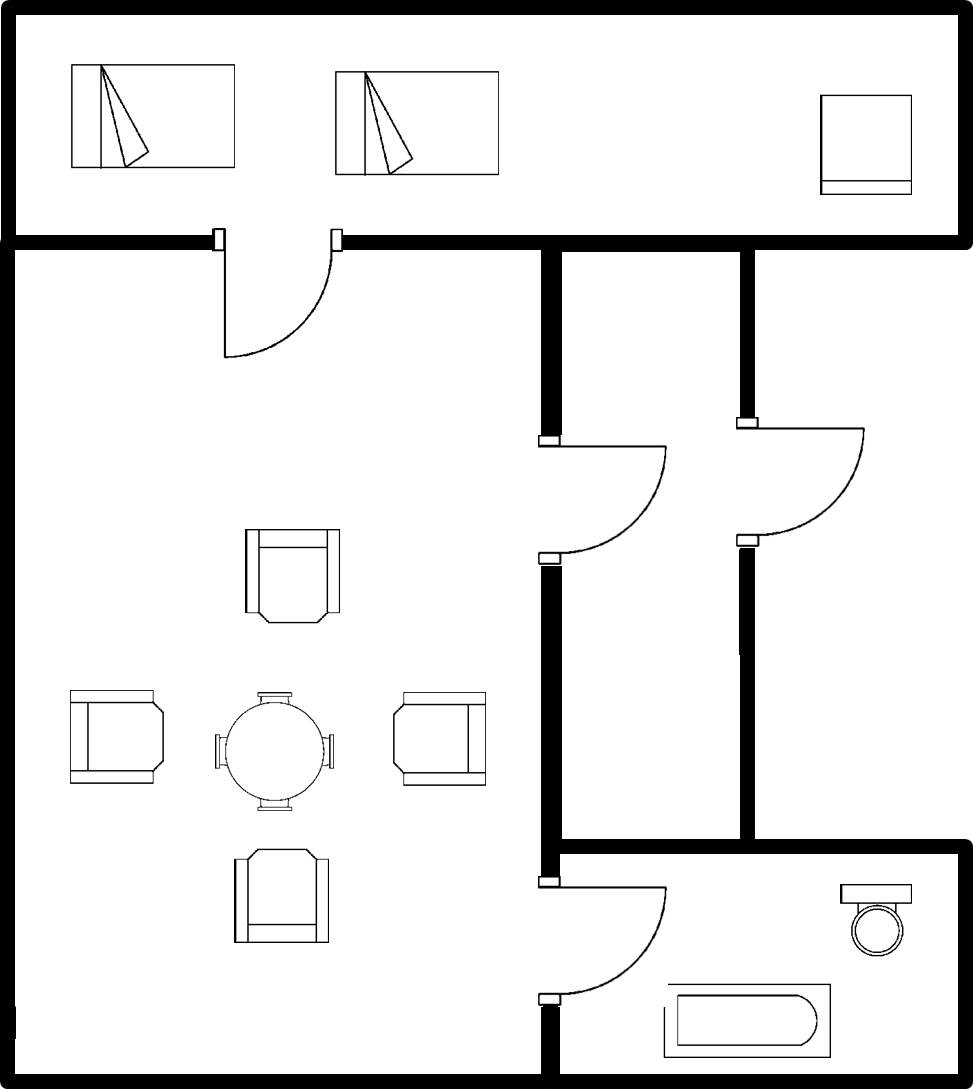armchair: (235, 523, 347, 632), (227, 841, 338, 950), (386, 685, 494, 794), (63, 683, 170, 791)
bed: (62, 52, 243, 177), (327, 64, 505, 183)
large_sink: (829, 880, 919, 961)
round_table: (208, 681, 340, 819)
small_sofa: (810, 88, 918, 204)
tub: (658, 974, 837, 1066)
